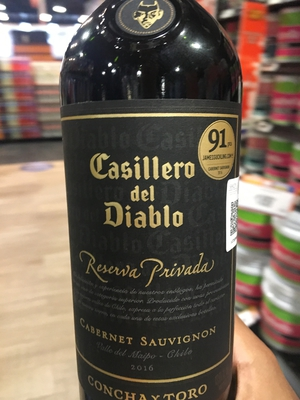casillero del diablo reserva privada cabernet sauvignon: (53, 3, 250, 400)
